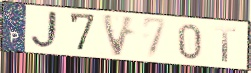0: (175, 22, 205, 61)
7: (68, 11, 97, 54), (141, 17, 168, 62)
J: (29, 9, 62, 51)
T: (213, 25, 239, 64)
V: (99, 12, 138, 59)
